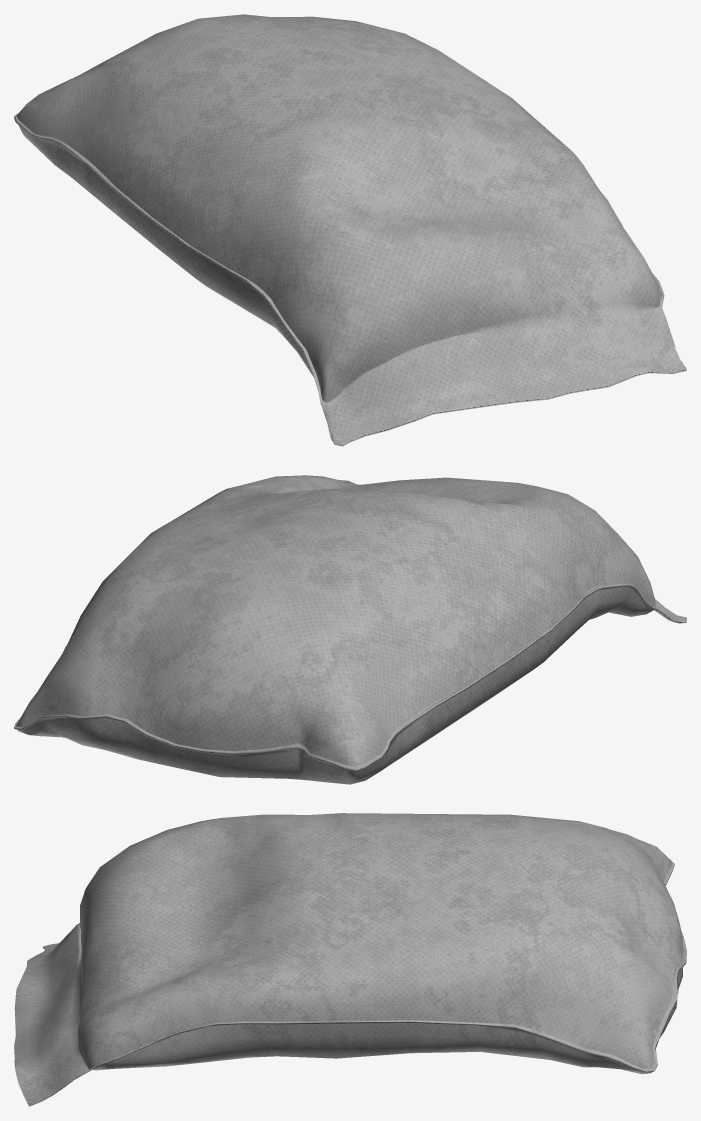
Rendered from SM_Sack-Stack-Single-B.fbx.
The picture shows the model from 3 angles, top to bottom: view 1: azimuth 30°, elevation 25°; view 2: azimuth 150°, elevation 25°; view 3: azimuth 270°, elevation 25°; orthographic projection. The views are drawn at different scales.
Visible parts, largest first — view 1: SM_Sack-Stack-Single-B_LOD0; view 2: SM_Sack-Stack-Single-B_LOD0; view 3: SM_Sack-Stack-Single-B_LOD0.
Boxes of the visible parts, x1,y1,x2,y2 form: SM_Sack-Stack-Single-B_LOD0: (14,14,686,446); SM_Sack-Stack-Single-B_LOD0: (14,475,686,784); SM_Sack-Stack-Single-B_LOD0: (14,813,686,1106).
Bounding box in the file's own units: 56.39 × 91.74 × 27.73.
Materials: 1 (1 with a texture image).
